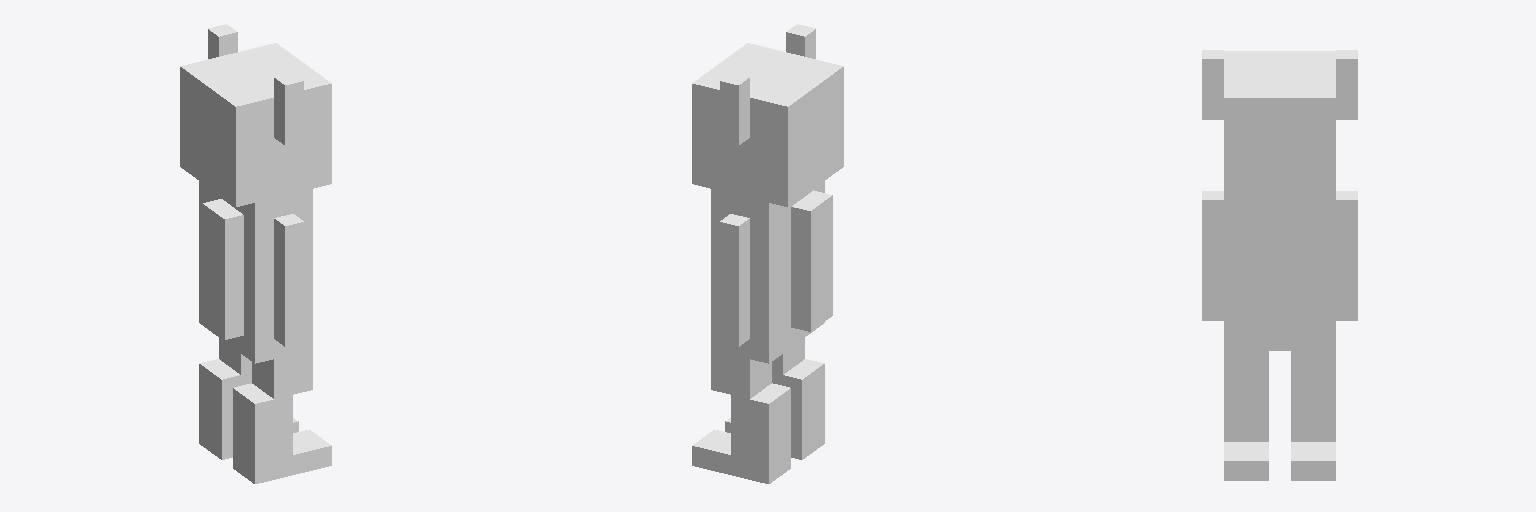
Rendered from Halen.obj.
3 views of the same model, side by side, from view 1: azimuth 30°, elevation 25°; view 2: azimuth 150°, elevation 25°; view 3: azimuth 270°, elevation 25° (orthographic).
Parts seen in each view (by area): view 1: Halen; view 2: Halen; view 3: Halen.
Part boxes in pixels (x1,y1,x2,y2): Halen: (180,24,331,483); Halen: (692,24,843,483); Halen: (1202,50,1357,480).
Bounding box in the file's own units: 5 × 20 × 7.